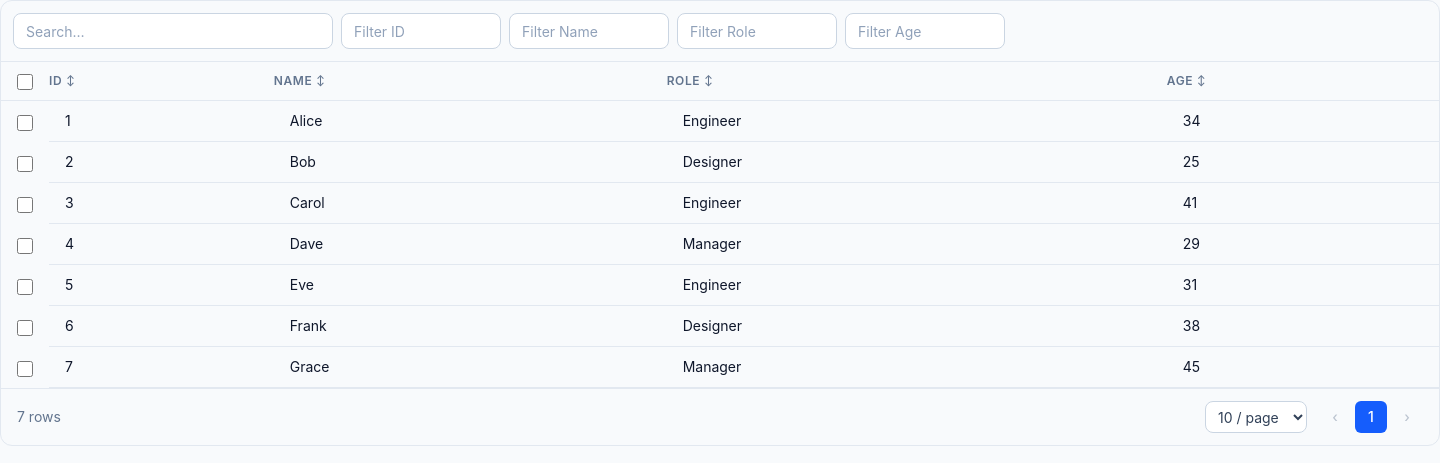
Test case: DataTable › filtering › shows the empty state when filters match nothing
In the search field named "Filter by Name": (589, 31) [509,13,669,49], type "zzz"
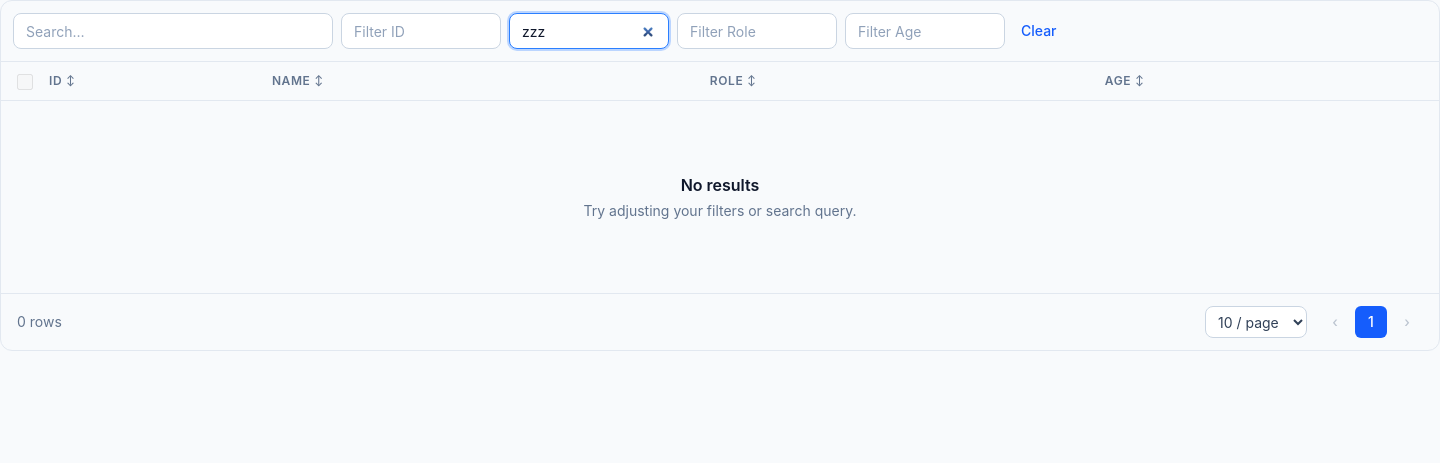
Check: the heading "No results" is shown, box [681,173,759,197]
